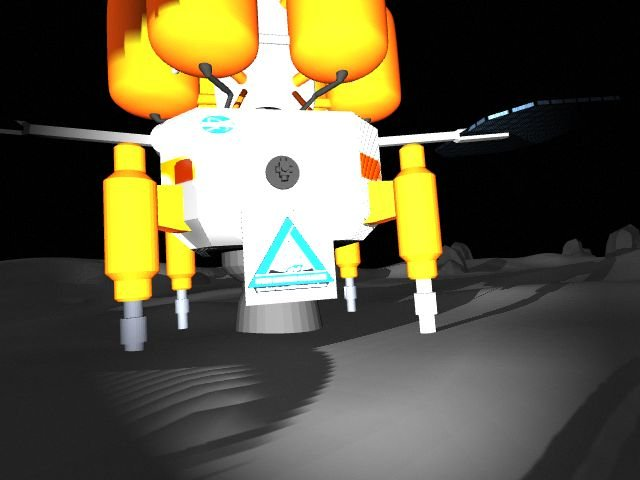basemarker: (247, 216, 335, 293)
